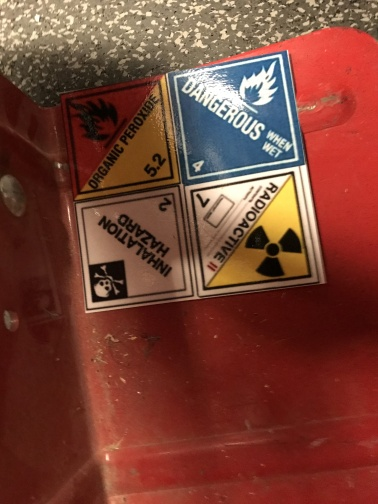DangerousWhenWet: (166, 51, 306, 184)
InhalationHazard: (74, 186, 192, 309)
OrganicPeroxide: (61, 76, 181, 196)
Radioactive: (186, 168, 313, 290)
